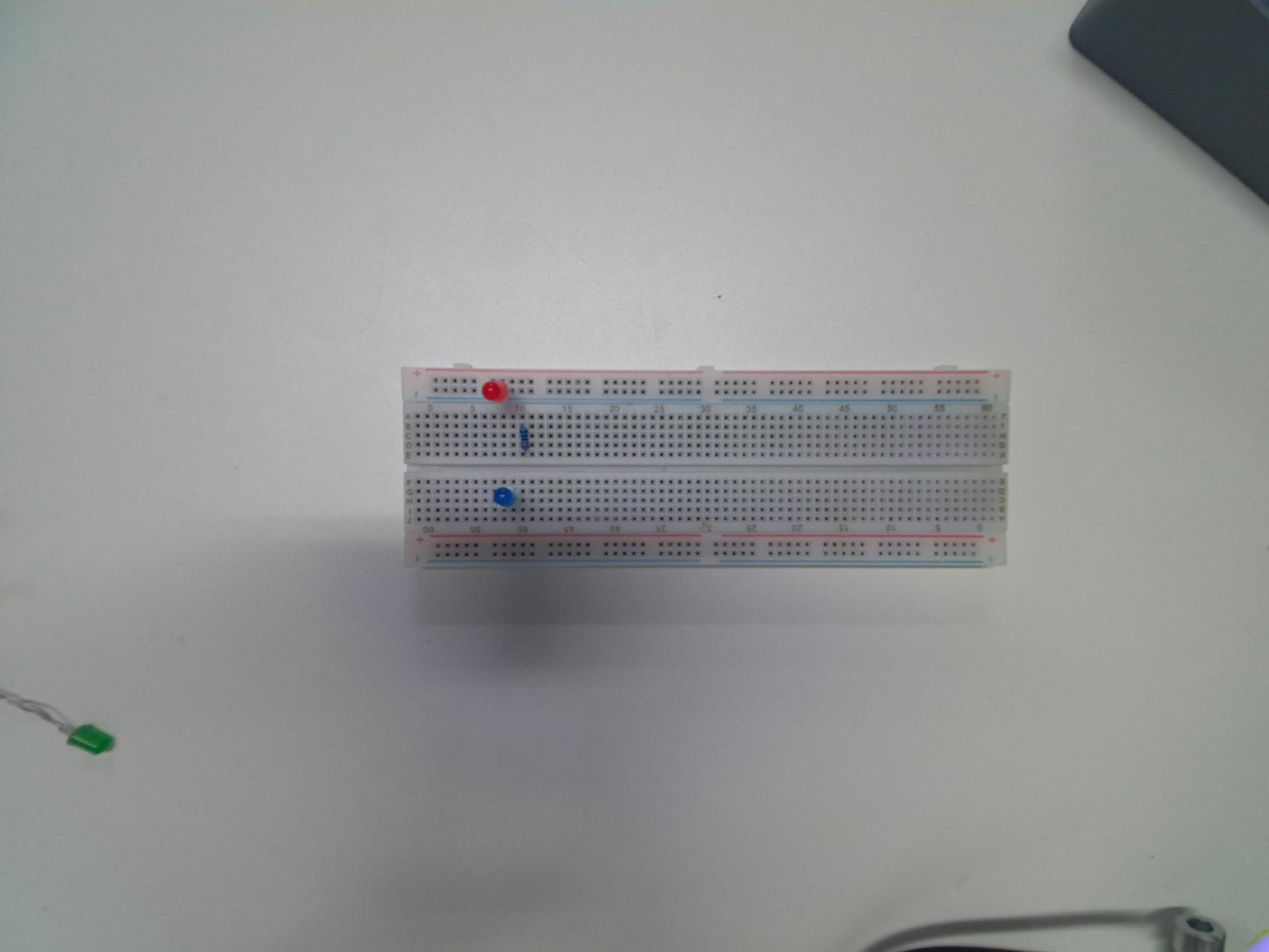base: (401, 365, 1013, 574)
blue-led: (492, 486, 516, 509)
green-led: (67, 722, 119, 764)
red-led: (476, 377, 509, 408)
resistor-small: (516, 423, 535, 454)
